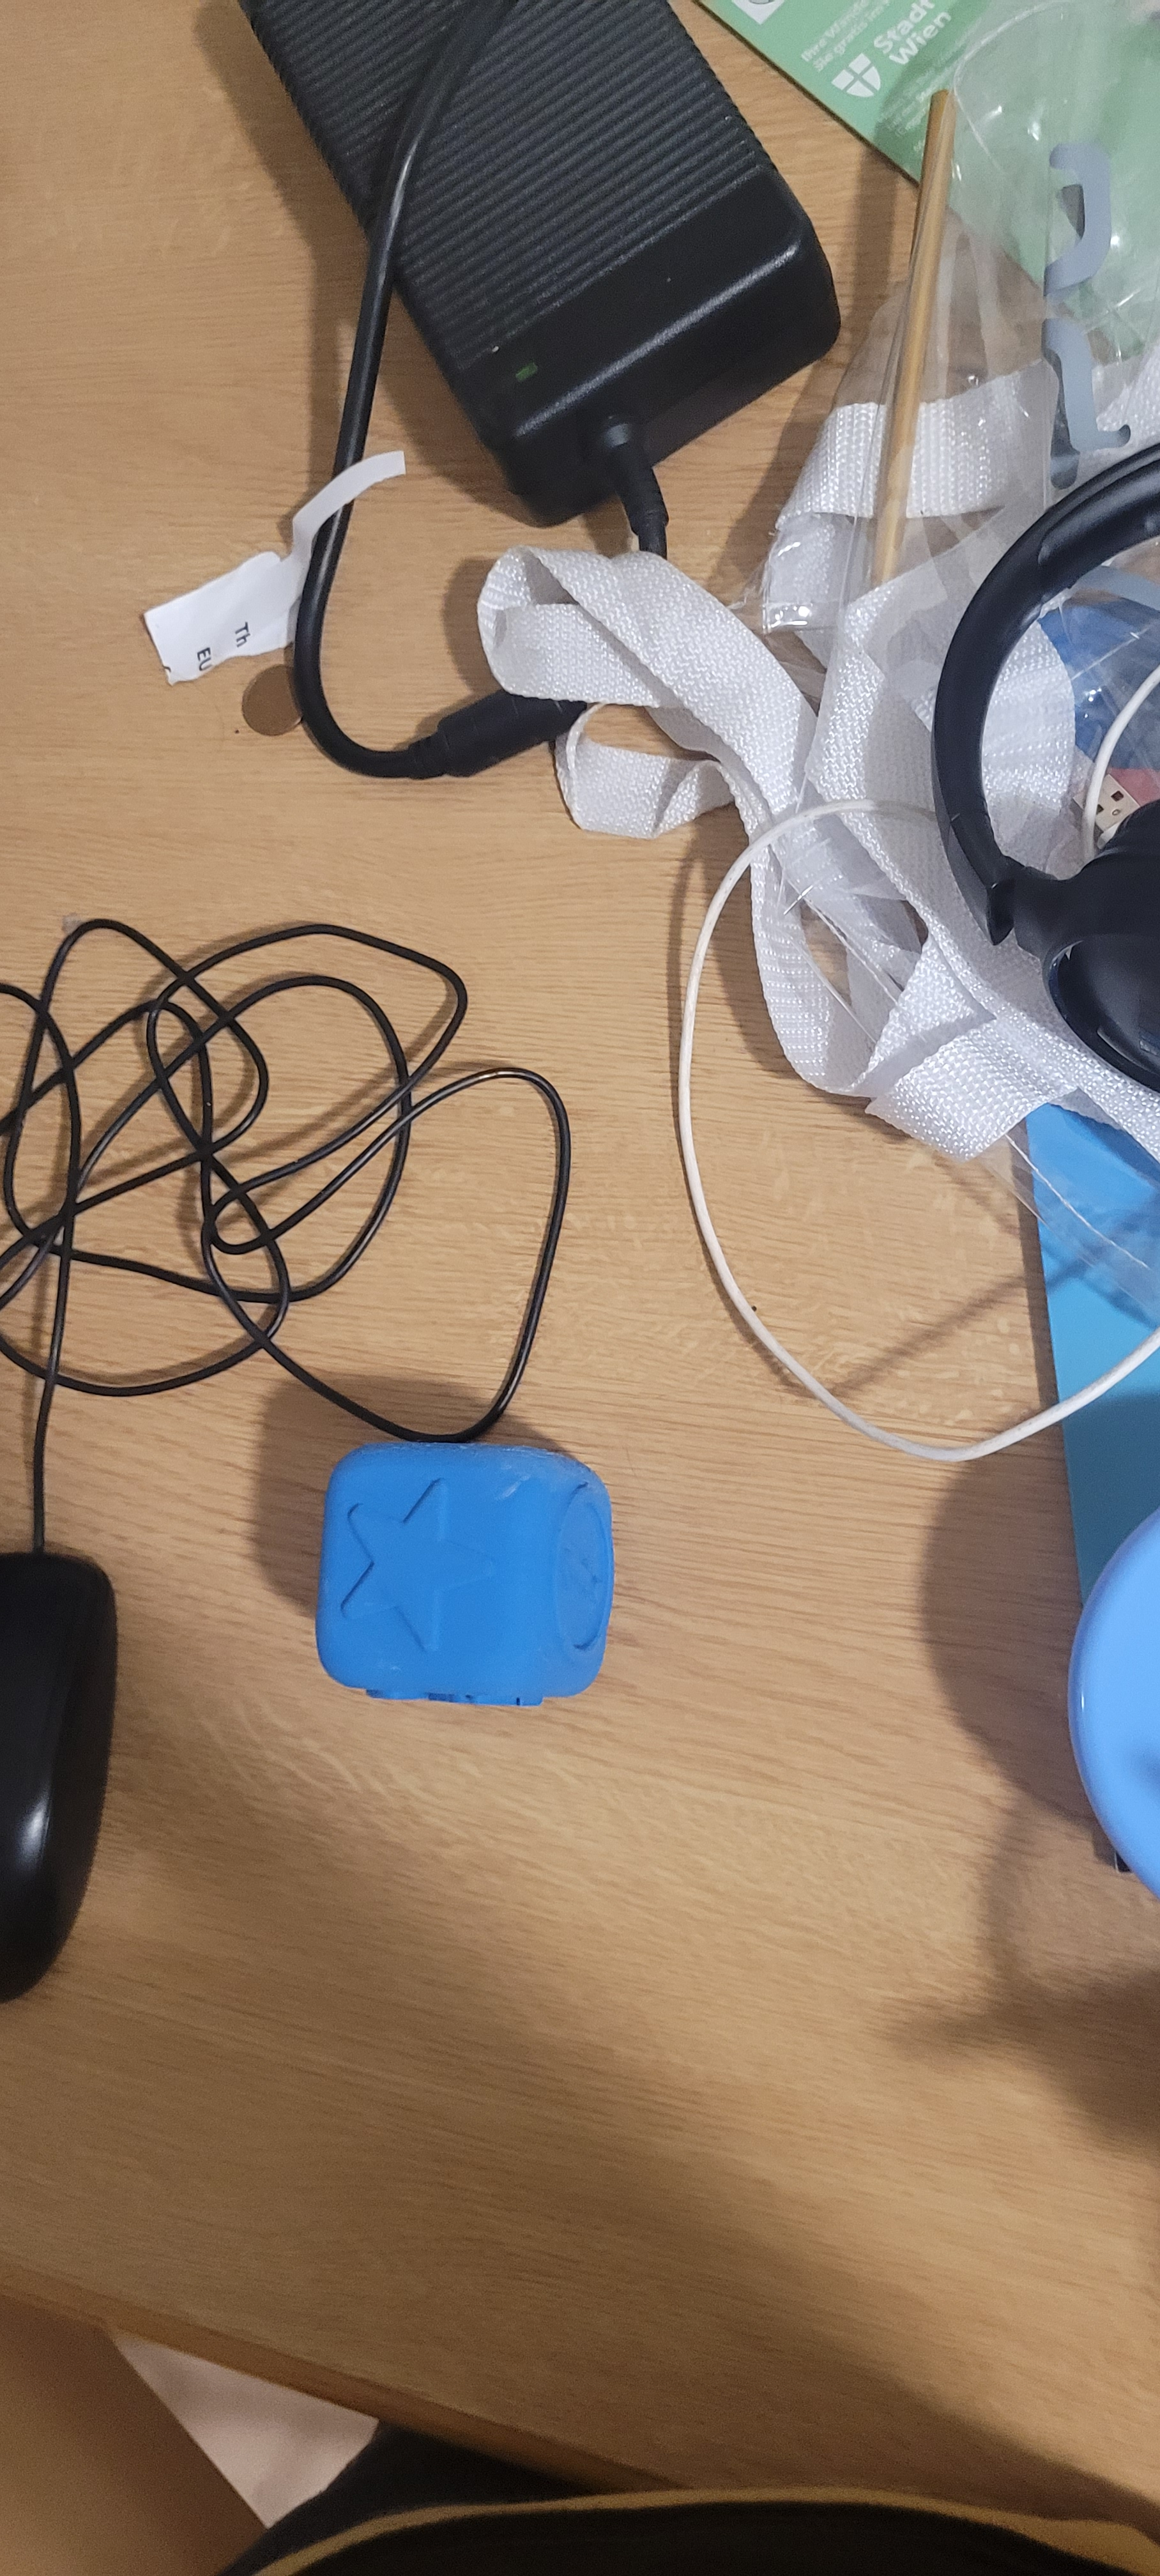Star: (320, 1457, 529, 1666)
